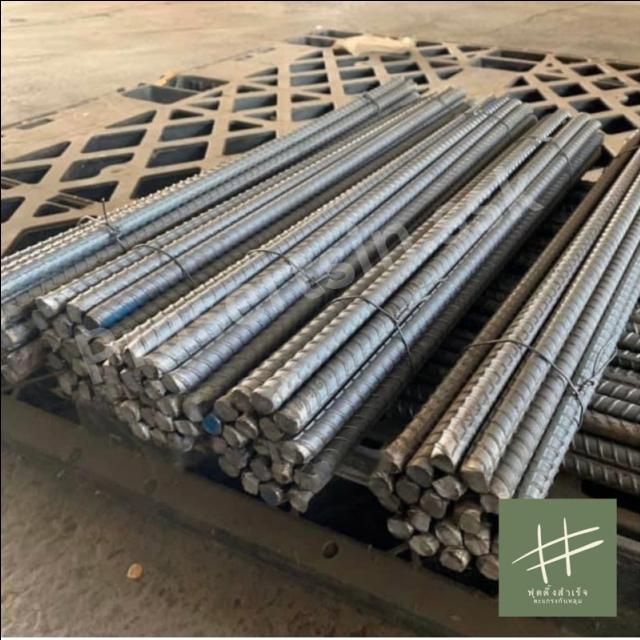Rebar: (433, 474, 465, 502), (457, 466, 489, 494), (274, 408, 302, 436), (420, 490, 446, 518), (481, 490, 507, 518), (464, 529, 491, 555), (259, 414, 283, 442), (407, 532, 435, 556), (437, 519, 461, 547), (404, 462, 432, 486), (460, 506, 484, 534), (255, 388, 278, 416), (381, 446, 401, 478), (233, 386, 257, 412), (407, 508, 431, 534), (432, 449, 457, 473), (397, 476, 419, 503), (442, 550, 466, 574), (216, 396, 238, 422), (285, 439, 307, 464), (482, 555, 503, 581), (204, 412, 226, 436), (264, 481, 283, 507), (296, 469, 316, 493), (53, 313, 71, 339), (181, 404, 205, 423), (226, 424, 245, 448), (144, 356, 164, 378), (290, 490, 308, 514), (218, 455, 236, 479), (253, 460, 272, 482), (244, 473, 261, 497), (39, 330, 59, 350), (128, 422, 148, 442), (369, 476, 389, 496), (392, 518, 412, 538), (34, 297, 56, 315), (156, 394, 174, 416), (226, 447, 244, 469), (67, 300, 83, 324), (6, 353, 25, 373), (164, 370, 183, 390), (179, 419, 199, 438), (238, 418, 257, 438), (2, 366, 20, 387), (29, 310, 47, 331), (65, 338, 85, 356), (171, 435, 191, 453), (379, 492, 399, 510), (121, 370, 138, 390), (86, 312, 102, 333), (275, 462, 289, 486), (59, 374, 74, 396), (145, 379, 163, 397), (47, 353, 64, 372), (106, 346, 122, 366), (269, 439, 285, 459), (1, 330, 16, 351), (120, 402, 135, 423), (78, 381, 92, 403), (72, 358, 90, 375), (104, 368, 119, 388), (212, 437, 227, 457), (124, 344, 138, 365), (76, 327, 92, 345), (135, 390, 153, 406), (152, 429, 165, 449), (255, 437, 268, 457), (94, 339, 108, 357), (105, 387, 119, 405), (159, 413, 173, 429), (144, 407, 155, 427), (92, 366, 103, 385), (94, 383, 105, 401), (113, 403, 122, 423)
